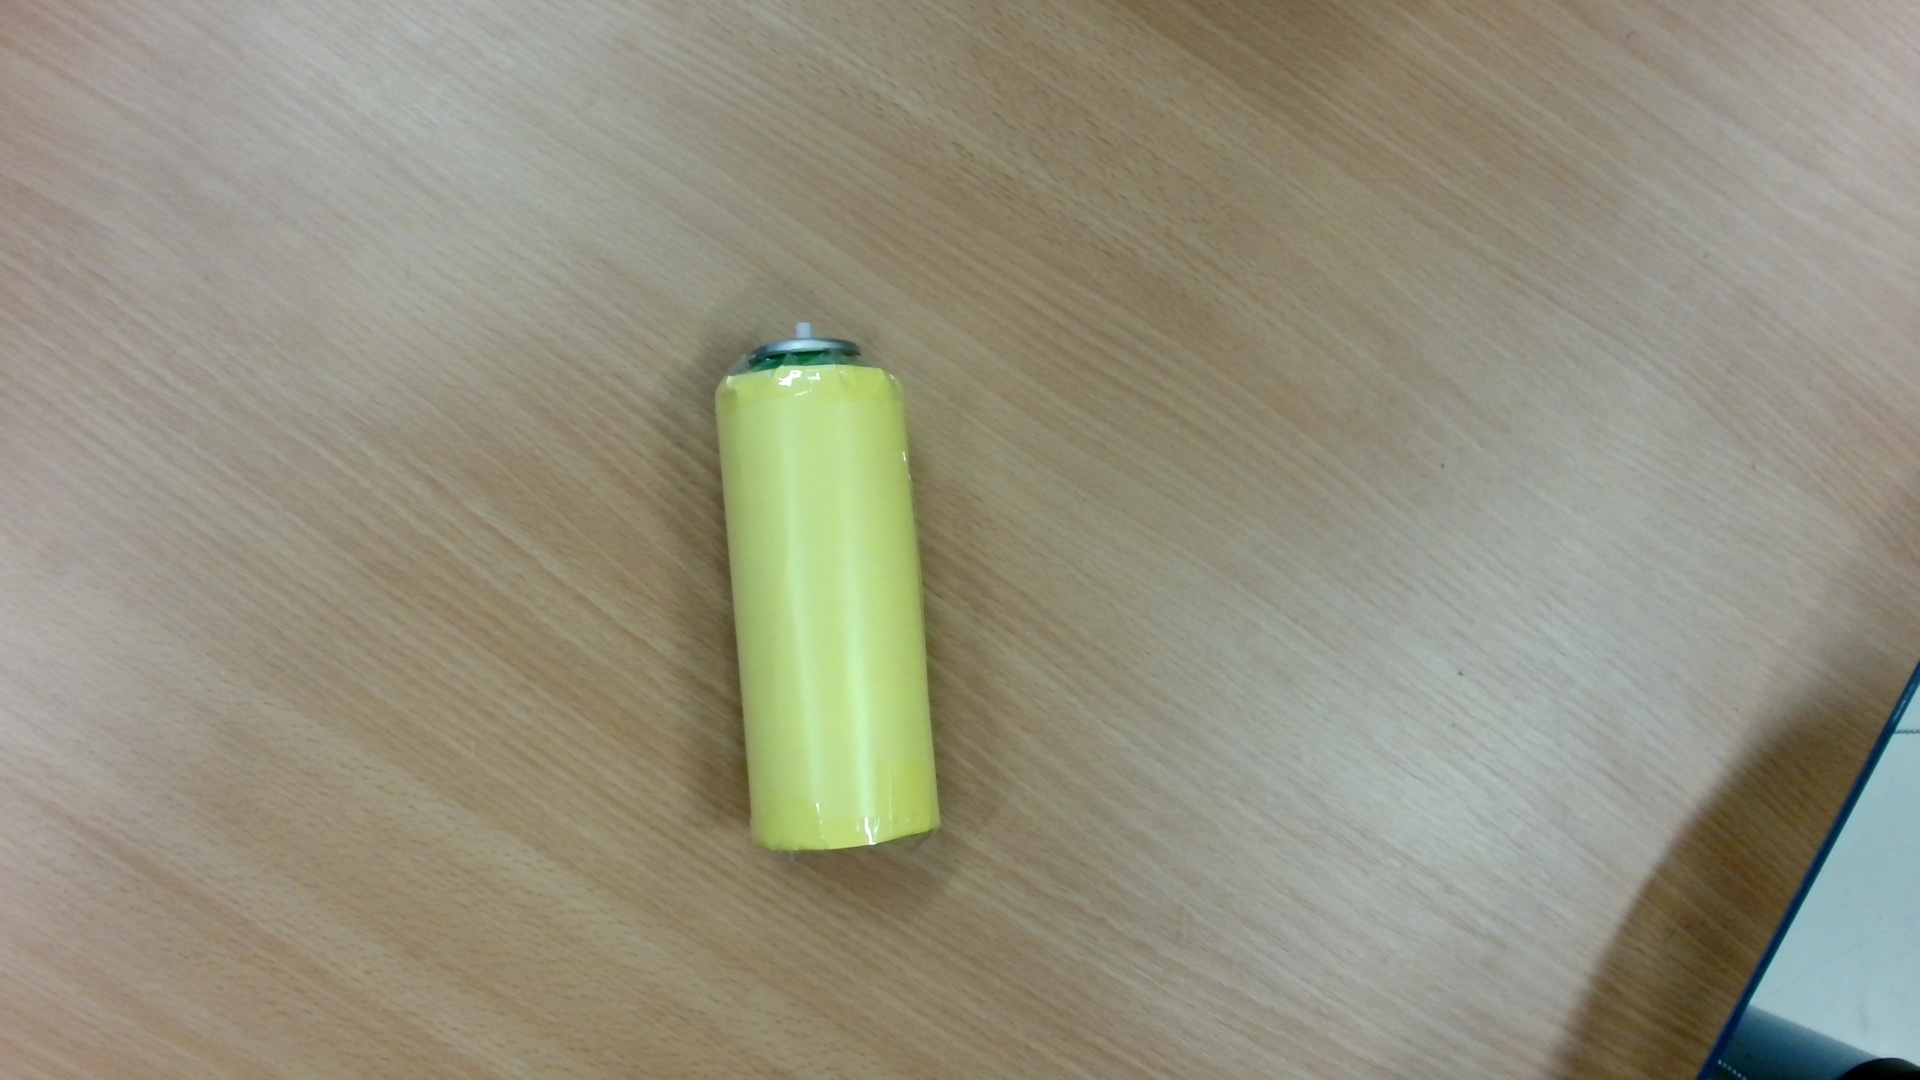Cylinder: (708, 313, 968, 862)
